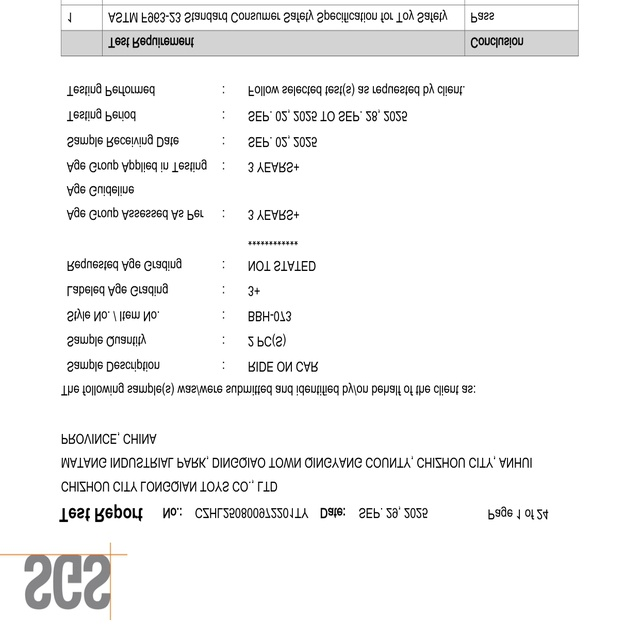sgs: (25, 553, 112, 611)
